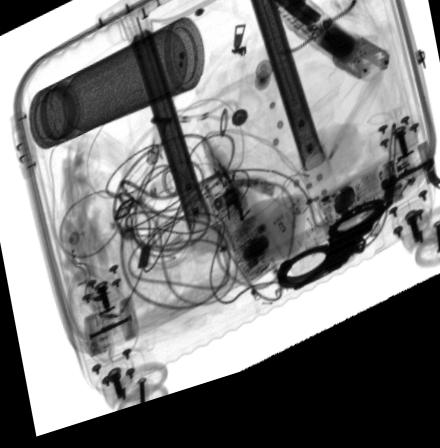Baton: (249, 0, 390, 109)
HandCuffs: (274, 220, 393, 309)
